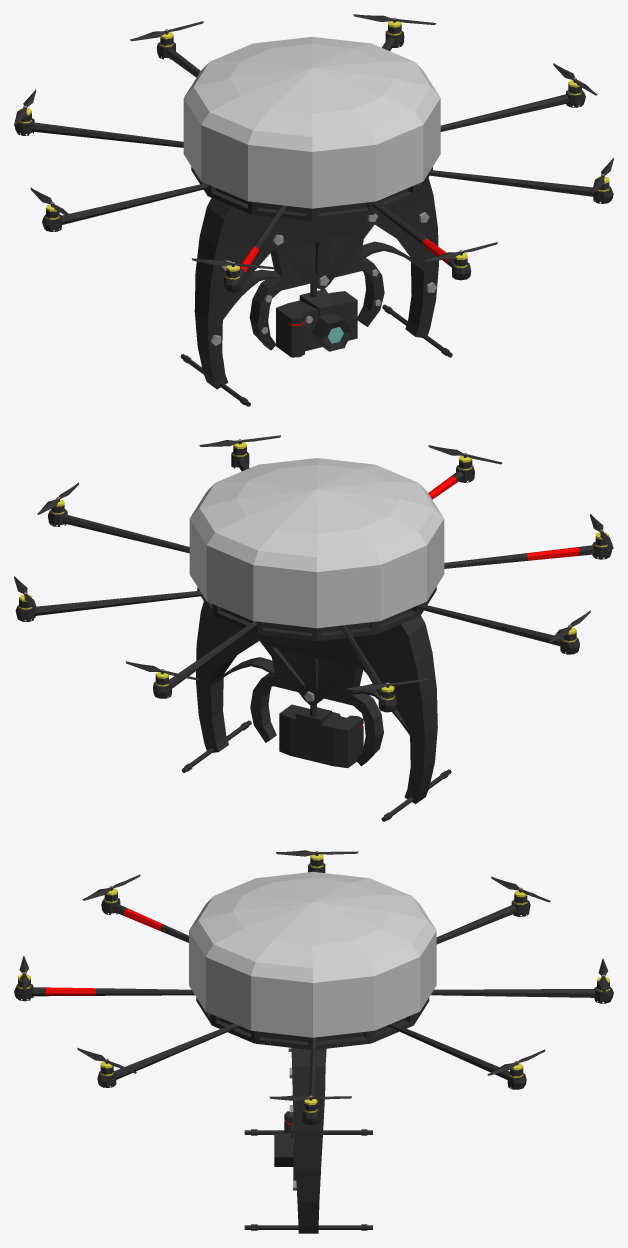
File: Octacopter Drone.fbx
3 views of the same model, one above another, from view 1: azimuth 30°, elevation 25°; view 2: azimuth 150°, elevation 25°; view 3: azimuth 270°, elevation 25° (orthographic). The views are drawn at different scales.
Visible parts, largest first — view 1: dron_5_body, camera; view 2: dron_5_body, camera; view 3: dron_5_body, camera.
Boxes of the visible parts, x1=… form: dron_5_body: x1=14, y1=21, x2=613, y2=406; camera: x1=276, y1=284, x2=357, y2=357; dron_5_body: x1=15, y1=442, x2=612, y2=821; camera: x1=279, y1=704, x2=363, y2=768; dron_5_body: x1=14, y1=854, x2=613, y2=1233; camera: x1=274, y1=1111, x2=320, y2=1180.
Size of the model in its own units: 267 by 138 by 267.
1 material, 1 textured.
